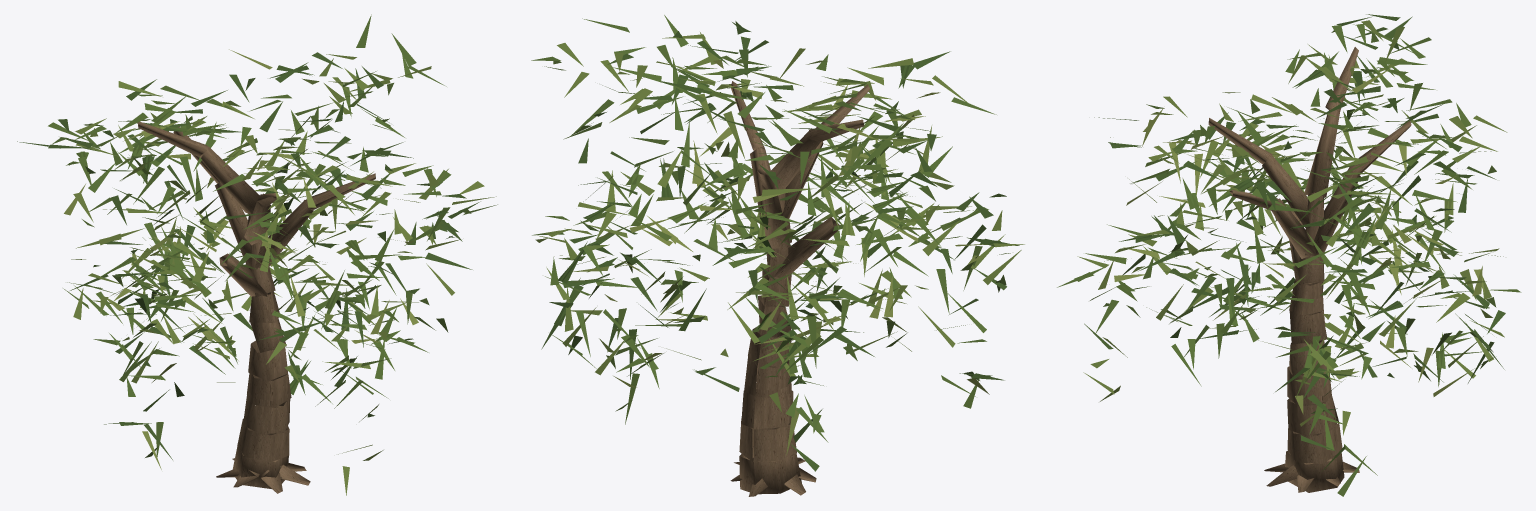
File: willow-tree.glb
The picture shows the model from 3 angles, left to right: view 1: azimuth 30°, elevation 25°; view 2: azimuth 150°, elevation 25°; view 3: azimuth 270°, elevation 25°; orthographic projection. The views are drawn at different scales.
Parts seen in each view (by area): view 1: 垂柳 · 立体叶冠, 垂柳 · 树干与枝系; view 2: 垂柳 · 立体叶冠, 垂柳 · 树干与枝系; view 3: 垂柳 · 立体叶冠, 垂柳 · 树干与枝系.
Boxes of the visible parts, x1=… form: 垂柳 · 立体叶冠: x1=17, y1=14, x2=497, y2=495; 垂柳 · 树干与枝系: x1=137, y1=122, x2=375, y2=493; 垂柳 · 立体叶冠: x1=531, y1=15, x2=1024, y2=471; 垂柳 · 树干与枝系: x1=730, y1=81, x2=870, y2=496; 垂柳 · 立体叶冠: x1=1057, y1=14, x2=1521, y2=496; 垂柳 · 树干与枝系: x1=1208, y1=47, x2=1411, y2=492.
Bounding box in the file's own units: 6.98 × 6.96 × 6.94.
Materials: 5 (1 with a texture image).
